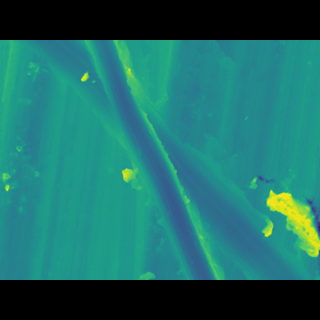Loch: (18, 69, 314, 249), (86, 69, 214, 249)
